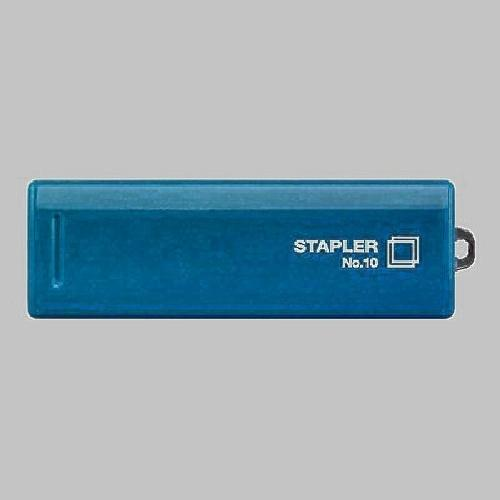stapler: (29, 171, 460, 327)
